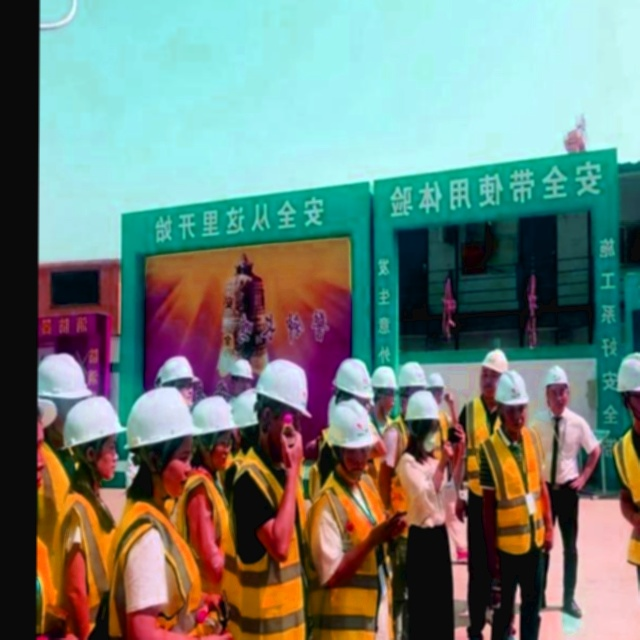Sin_Chaleco: (223, 468, 305, 640), (316, 475, 386, 640), (481, 429, 542, 549), (618, 420, 640, 569)
